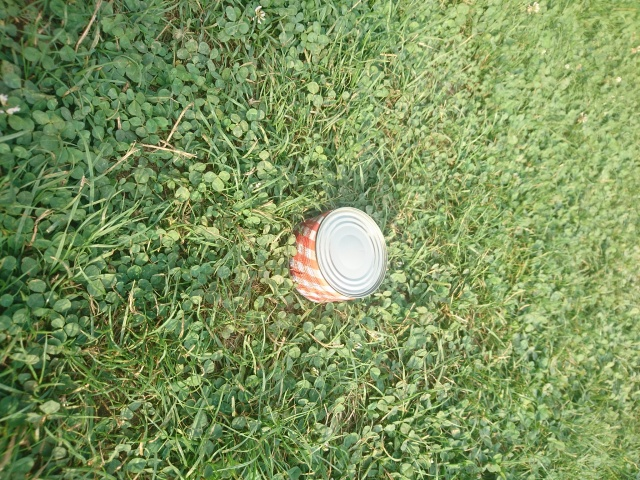Podravka Luncheon Meat 150g: (284, 203, 391, 306)
